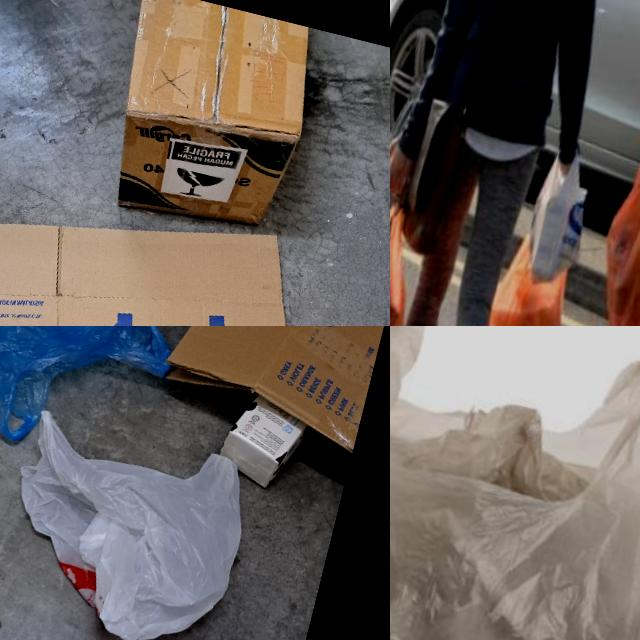caixinha: (210, 392, 315, 496)
papelão: (0, 153, 378, 326), (93, 0, 328, 247), (152, 326, 390, 457)
sacola plástica: (390, 326, 640, 640), (0, 408, 262, 640), (0, 326, 197, 474), (506, 126, 611, 302), (568, 72, 640, 326), (390, 147, 450, 326), (448, 250, 584, 326)
